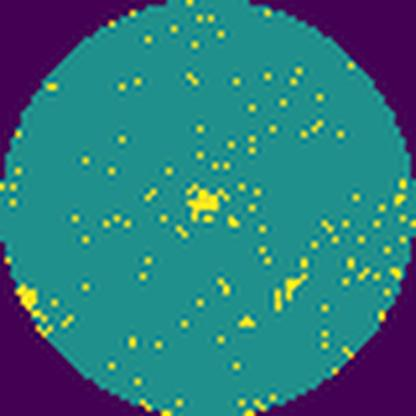Center: (187, 190, 221, 211)
